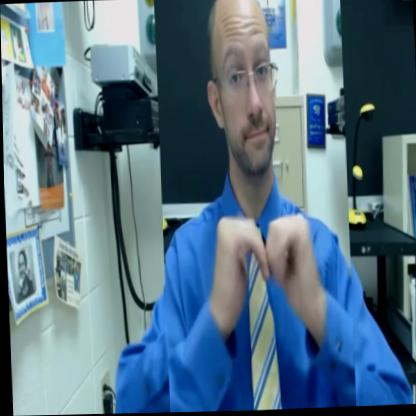HowAreYou: (153, 0, 353, 413)
